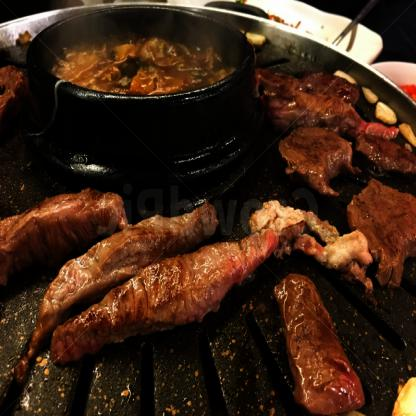Carne: (280, 270, 357, 415), (350, 170, 415, 287), (267, 64, 358, 133), (286, 111, 354, 183)
